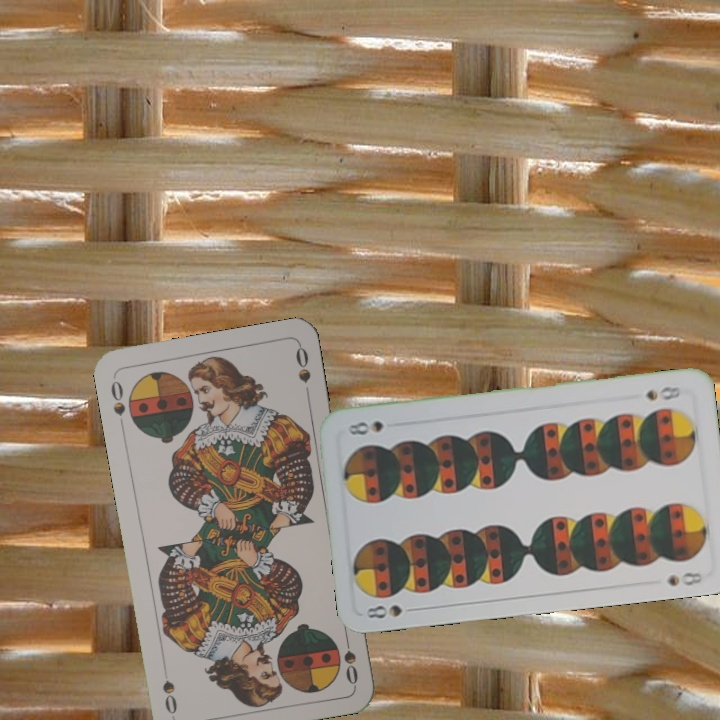S8: (363, 600, 421, 622), (641, 382, 683, 403)
SO: (339, 628, 361, 687), (107, 376, 128, 419)
